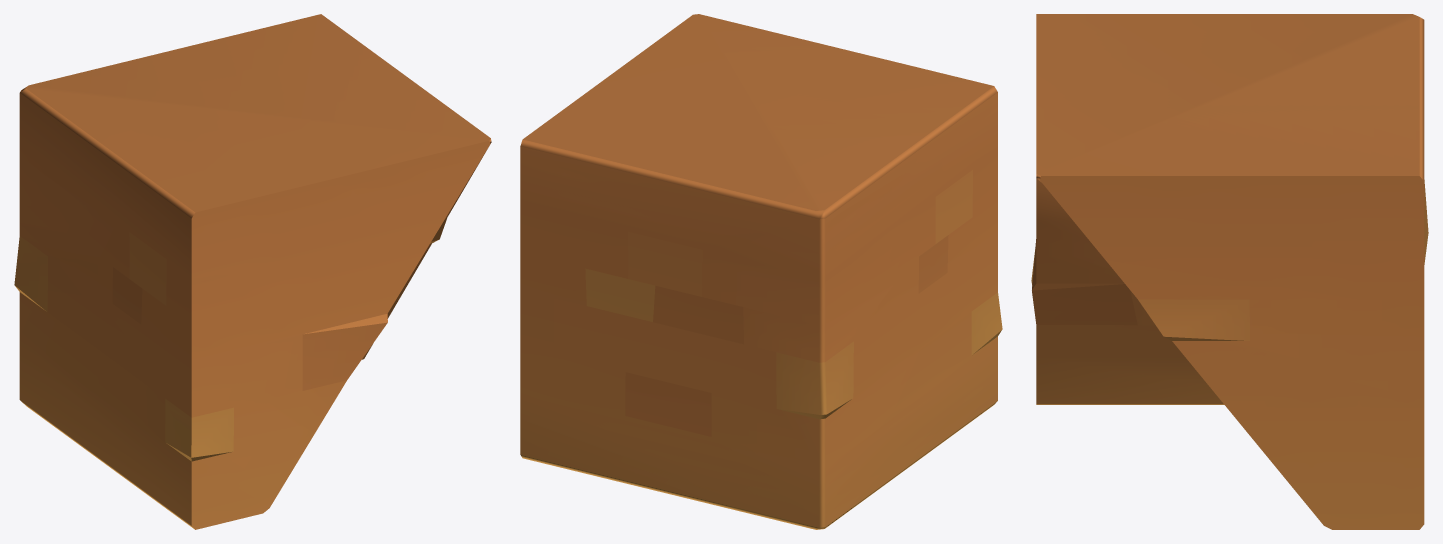
Rendered from pyramid_wall_corner_conc1.fbx.
3 views of the same model, side by side, from view 1: azimuth 30°, elevation 25°; view 2: azimuth 150°, elevation 25°; view 3: azimuth 270°, elevation 25° (orthographic). The views are drawn at different scales.
Parts seen in each view (by area): view 1: pyramid_wall_corner_conc1; view 2: pyramid_wall_corner_conc1; view 3: pyramid_wall_corner_conc1.
Part boxes in pixels (bbox=[...]): pyramid_wall_corner_conc1: bbox=[14, 14, 491, 529]; pyramid_wall_corner_conc1: bbox=[520, 14, 1002, 529]; pyramid_wall_corner_conc1: bbox=[1031, 14, 1428, 529].
Bounding box in the file's own units: 410 × 402 × 409.
